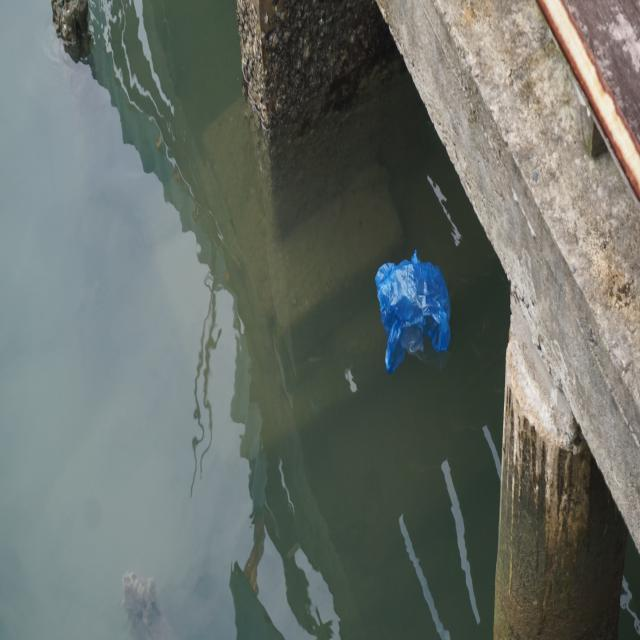Kantong Plastik: (374, 252, 454, 380)
